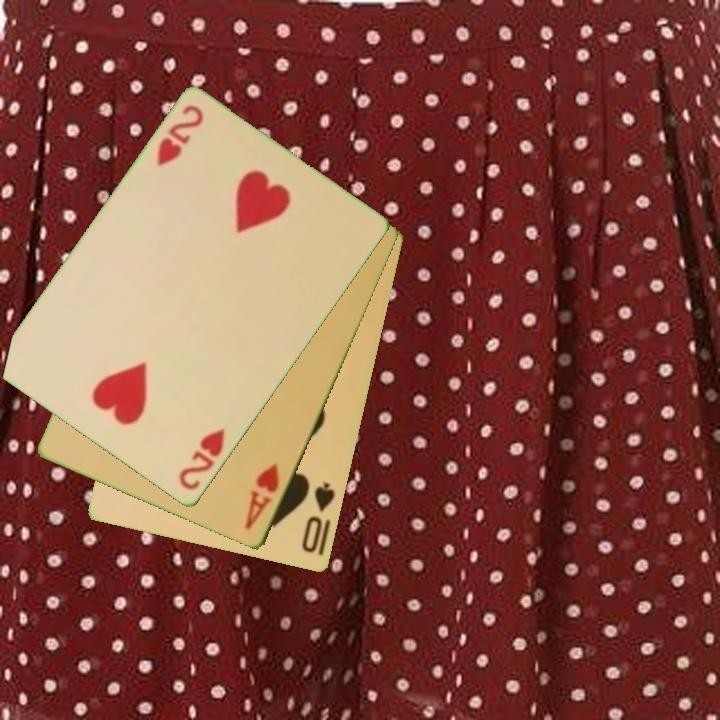10s: (298, 479, 339, 556)
2h: (175, 425, 229, 494), (153, 101, 207, 170)
Ah: (241, 460, 283, 534)
